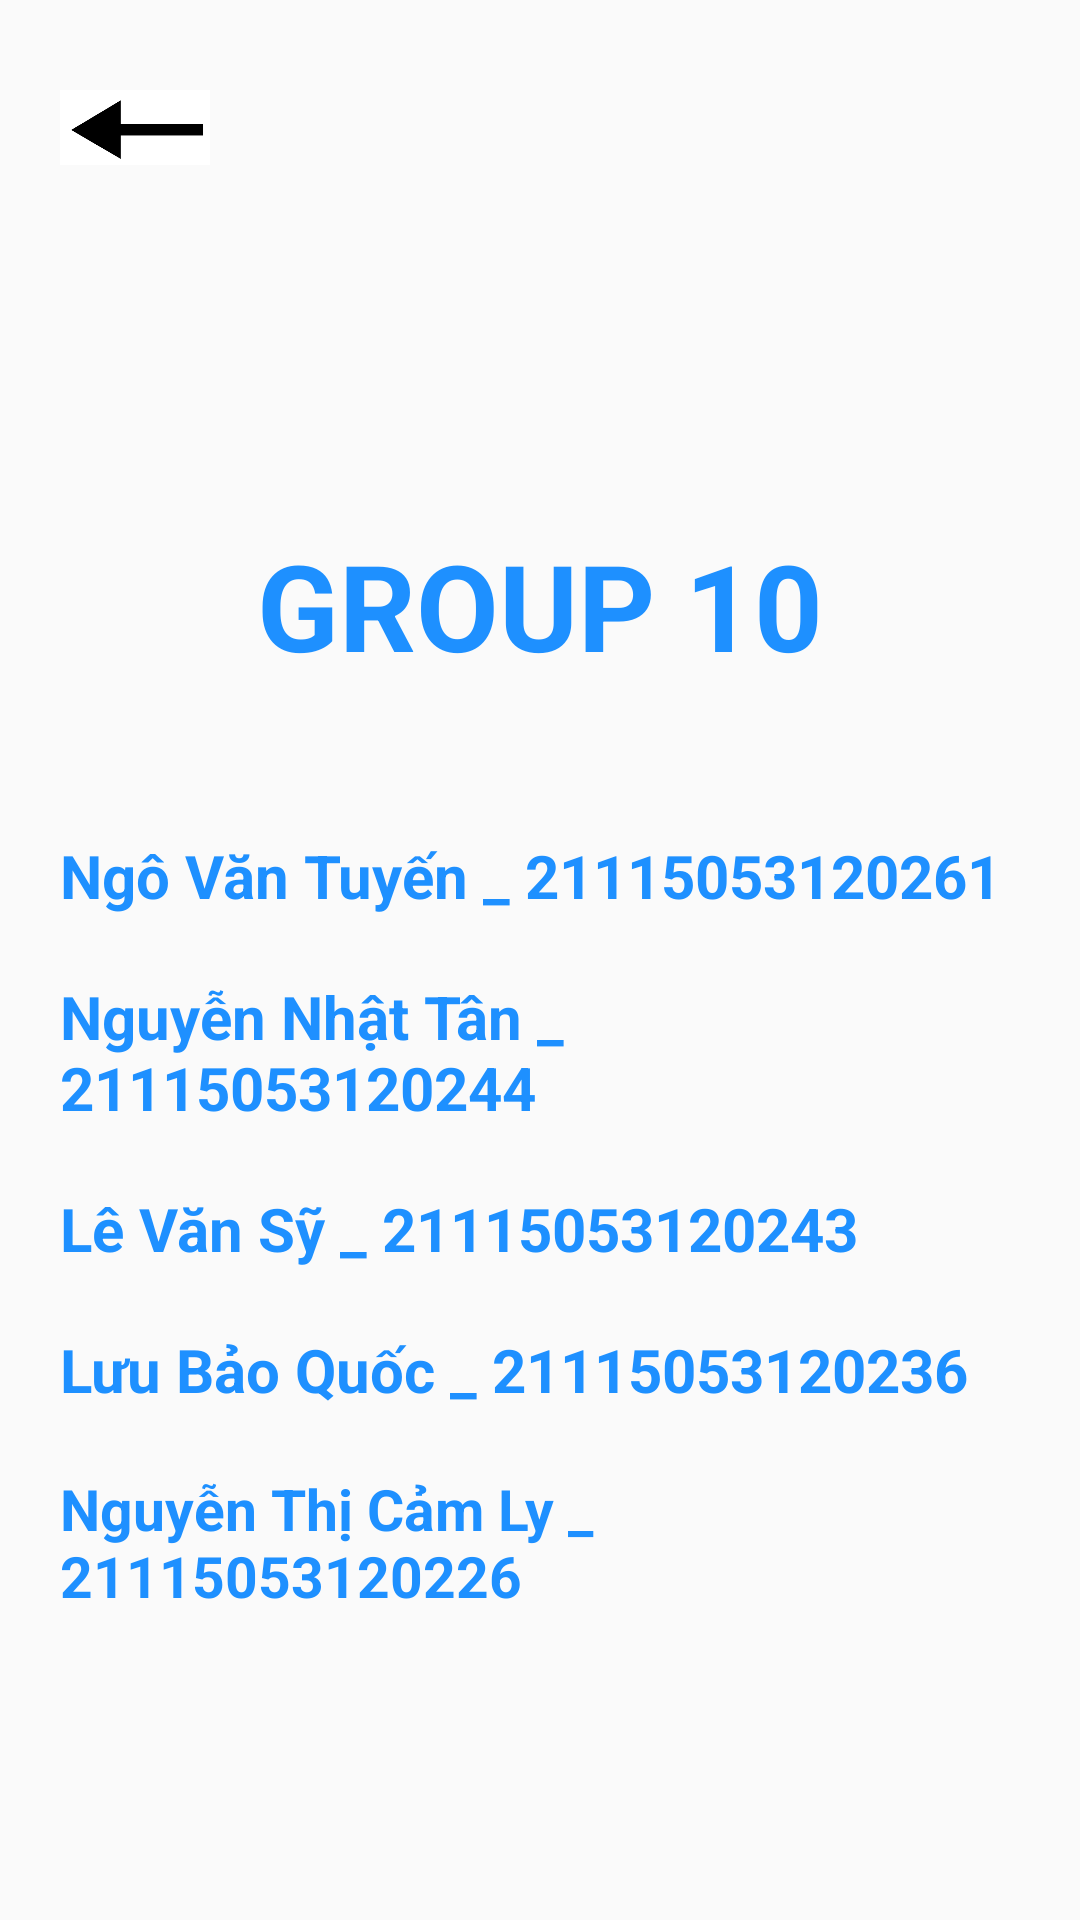

Icon bounding boxes for this 1080px×1920px phone screenshot, format (x1, y1, x2, y2):
back product: (71, 100, 203, 159)
